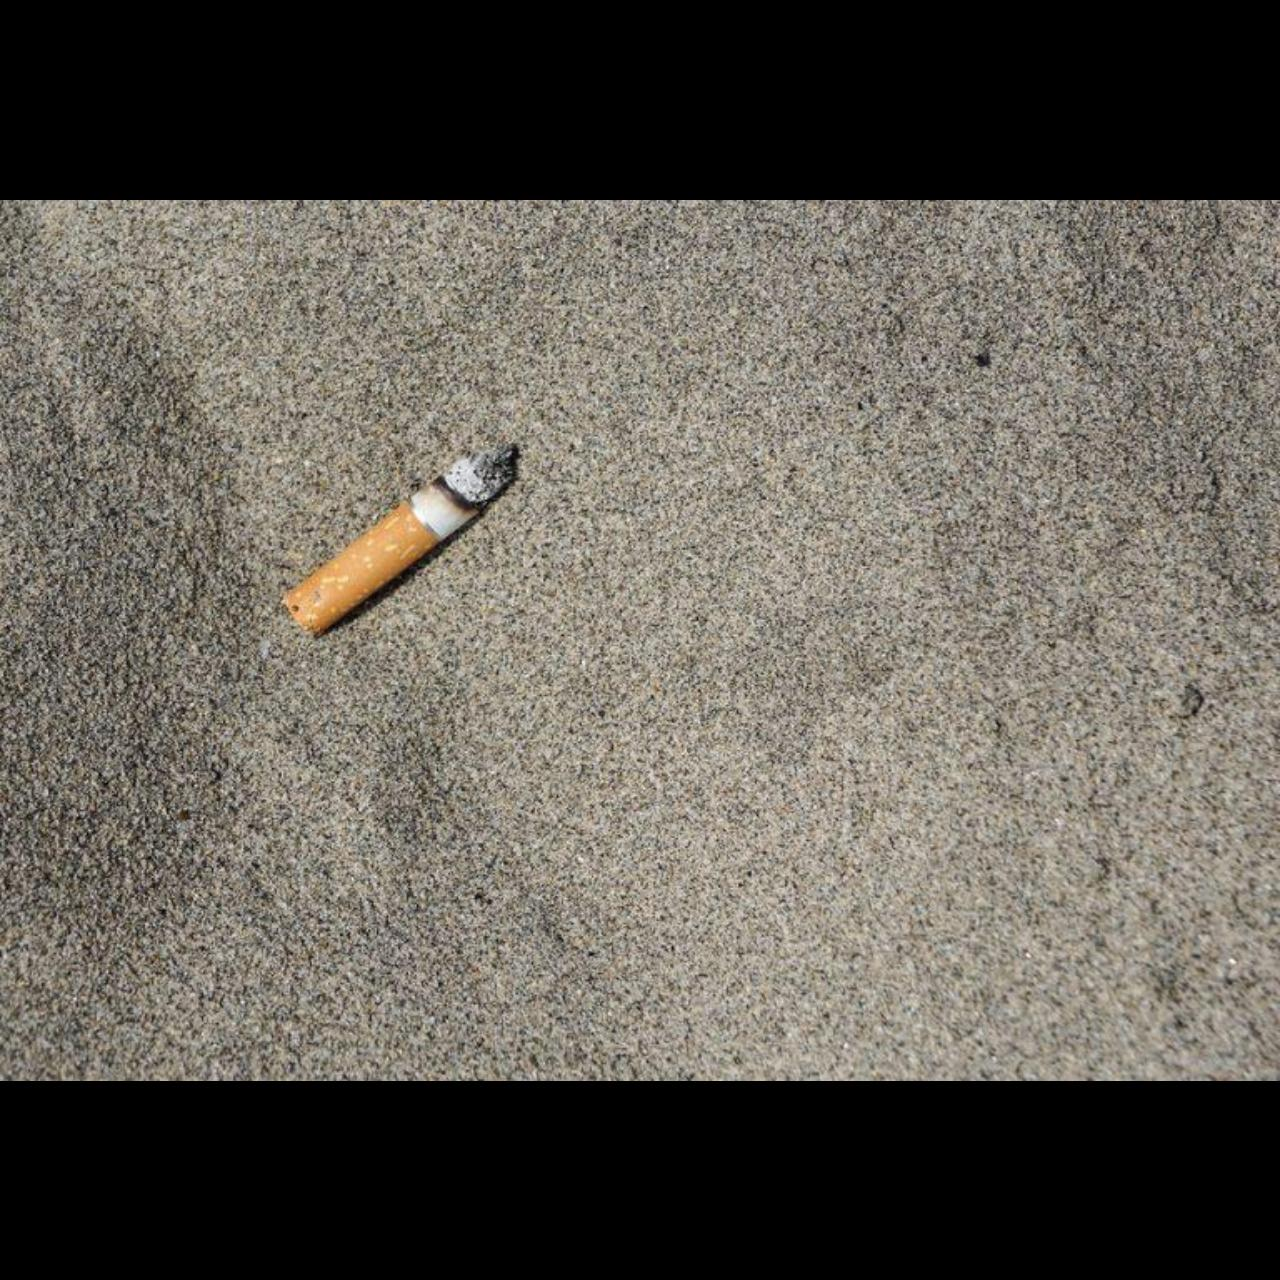cigarettes_butts: (283, 444, 520, 639)
